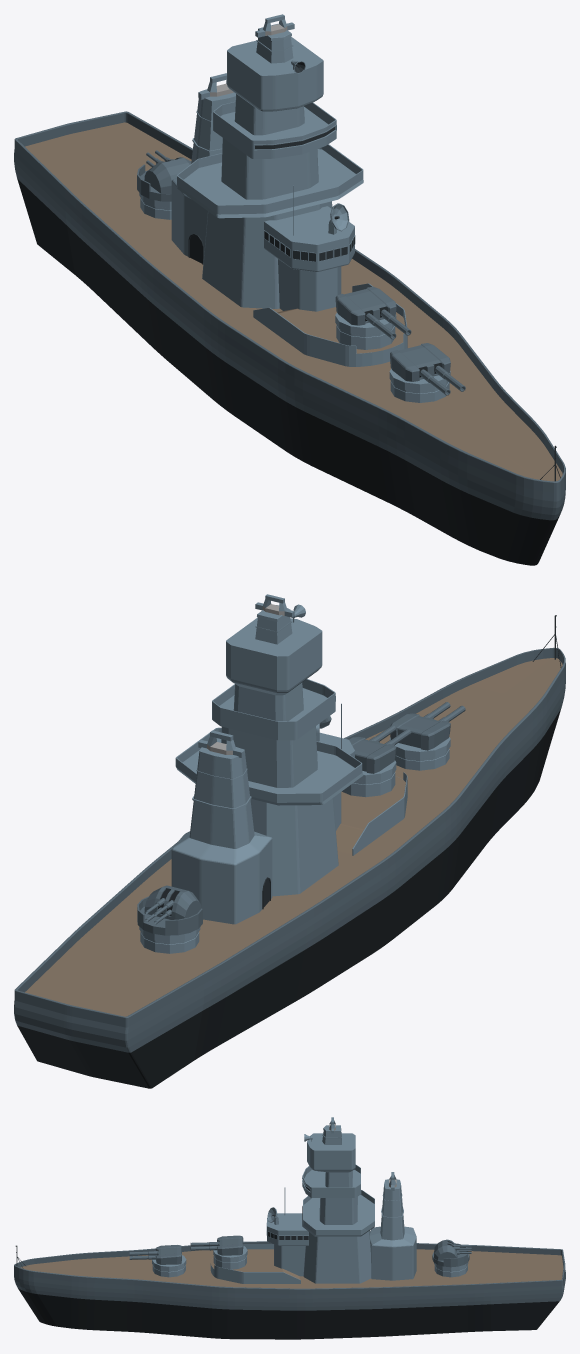
The model's file is battleship-and-colliders.glb.
3 views of the same model, one above another, from view 1: azimuth 30°, elevation 25°; view 2: azimuth 150°, elevation 25°; view 3: azimuth 270°, elevation 25° (orthographic). The views are drawn at different scales.
Parts seen in each view (by area): view 1: Hull, SuperStructure, MainGunBack, MainGunFront, AntiAirGun; view 2: Hull, SuperStructure, AntiAirGun, MainGunFront, MainGunBack; view 3: Hull, SuperStructure, AntiAirGun, MainGunBack, MainGunFront.
Boxes of the visible parts, box(x1,y1,x2,y2) form: Hull: box(14, 111, 565, 565); SuperStructure: box(171, 14, 363, 311); MainGunBack: box(335, 286, 396, 325); MainGunFront: box(390, 343, 450, 381); AntiAirGun: box(137, 157, 191, 201); Hull: box(14, 615, 565, 1088); SuperStructure: box(171, 594, 363, 924); AntiAirGun: box(137, 885, 202, 935); MainGunFront: box(390, 713, 450, 750); MainGunBack: box(349, 737, 396, 773); Hull: box(14, 1241, 565, 1339); SuperStructure: box(266, 1117, 416, 1283); AntiAirGun: box(432, 1239, 469, 1267); MainGunBack: box(217, 1235, 243, 1255); MainGunFront: box(155, 1245, 181, 1264).
Size of what is drawn, in the model's own units: 20.84 by 40.07 by 99.5.
